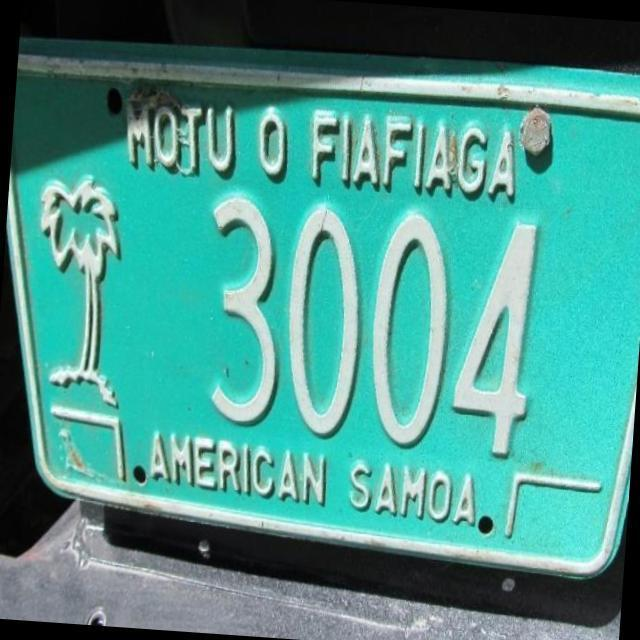License Plate: (0, 52, 640, 588)
